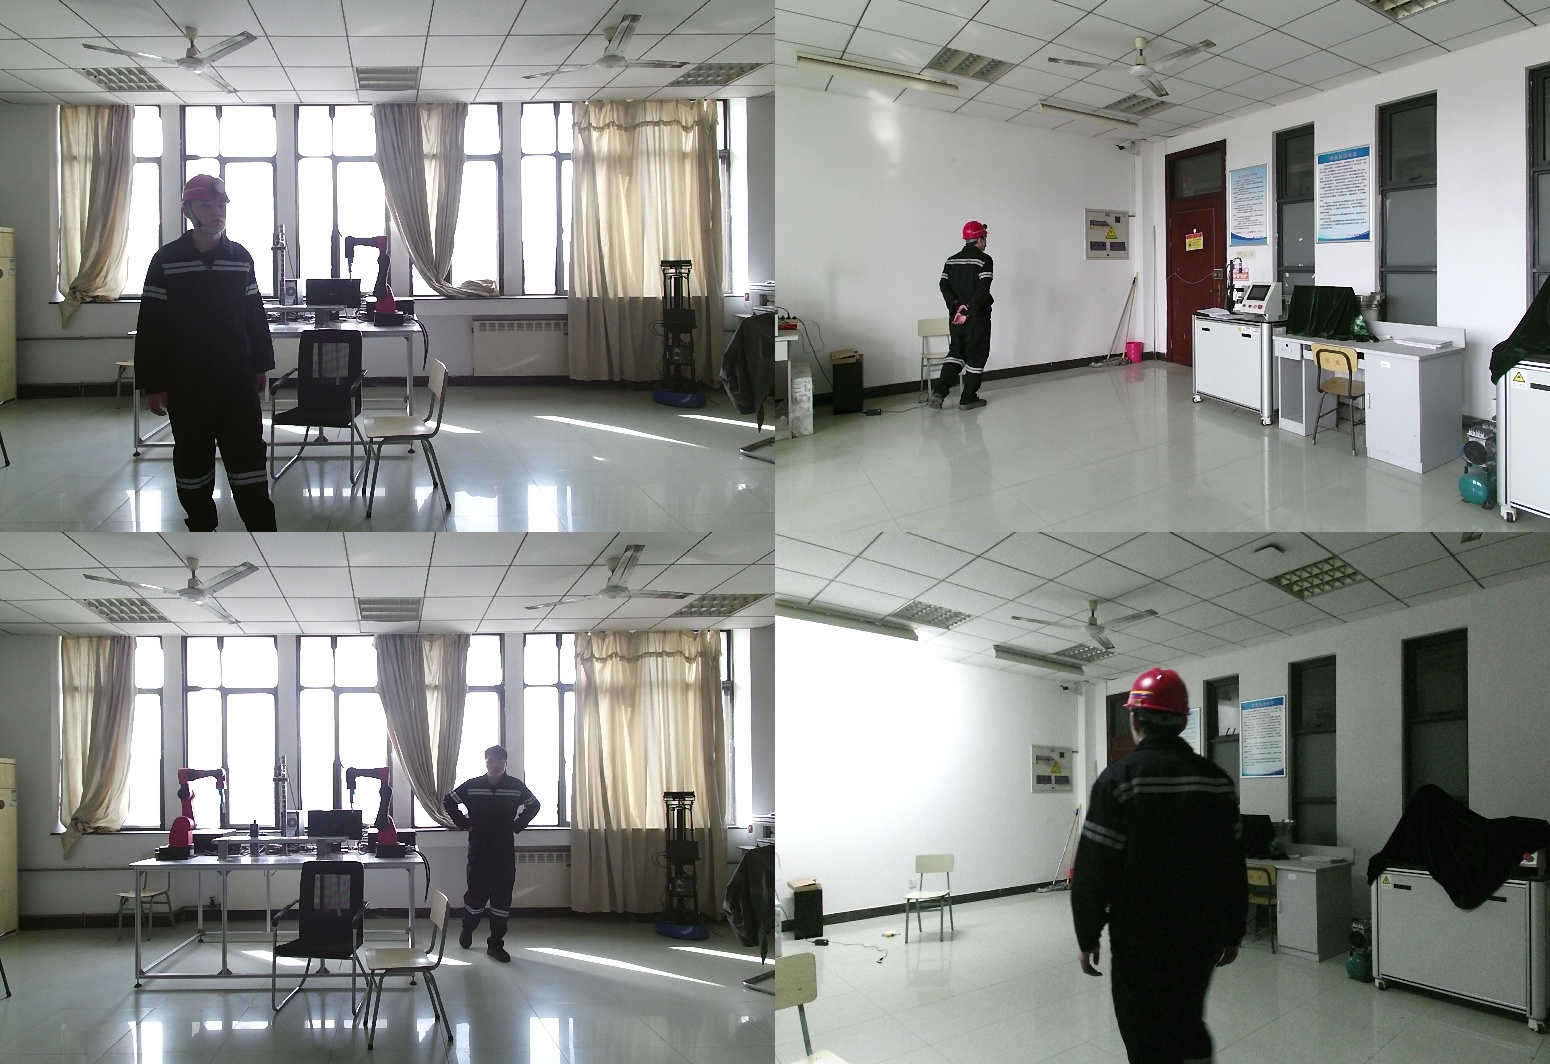person: (1071, 669, 1265, 1064), (139, 176, 293, 532), (446, 750, 540, 967), (921, 220, 996, 420)
